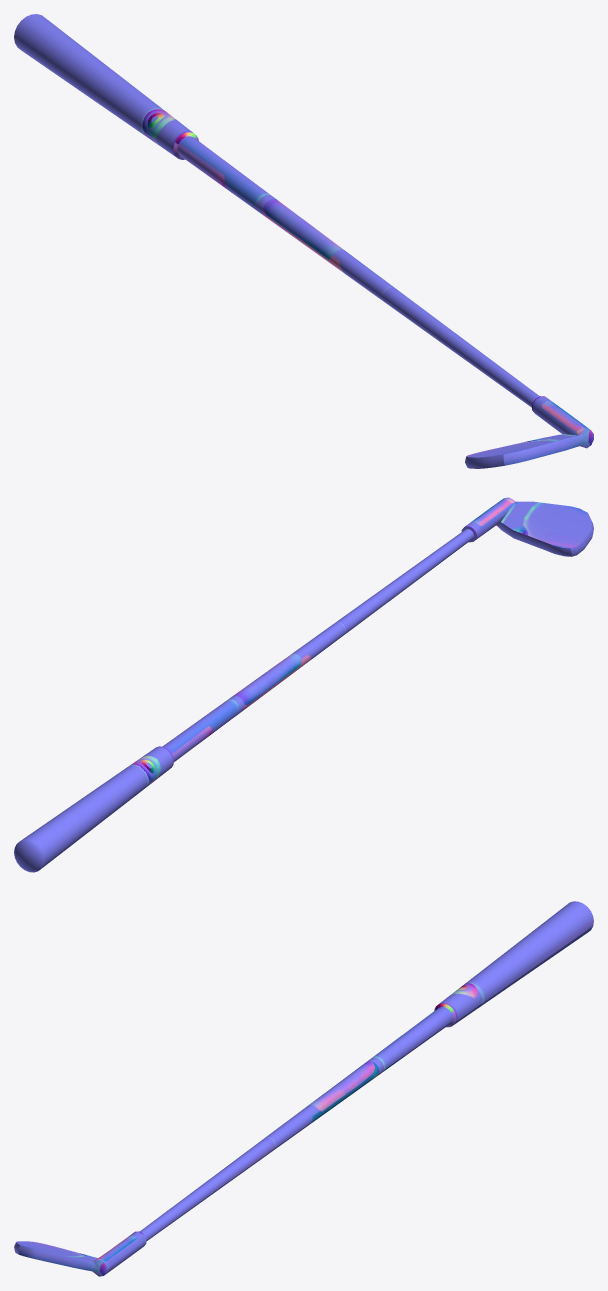
The model's file is Golf_Club.glb.
The picture shows the model from 3 angles, top to bottom: view 1: azimuth 30°, elevation 25°; view 2: azimuth 150°, elevation 25°; view 3: azimuth 330°, elevation 25°; orthographic projection. The views are drawn at different scales.
Parts seen in each view (by area): view 1: Golf_Club; view 2: Golf_Club; view 3: Golf_Club.
Boxes of the visible parts, x1,y1,x2,y2 form: Golf_Club: (14, 14, 593, 468); Golf_Club: (14, 497, 593, 872); Golf_Club: (14, 901, 593, 1276).
Bounding box in the file's own units: 1.38 × 0.4287 × 11.08.
Materials: 1 (1 with a texture image).
